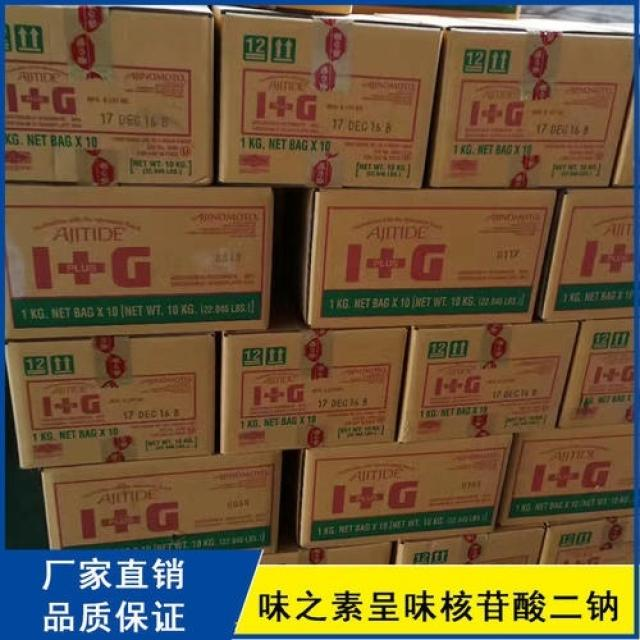box: (375, 13, 634, 189), (212, 5, 444, 188), (5, 184, 275, 340), (5, 5, 214, 187), (303, 188, 558, 329), (5, 332, 215, 470), (297, 434, 513, 549), (220, 326, 410, 453), (41, 451, 282, 549), (397, 321, 580, 442), (495, 422, 634, 525), (535, 188, 634, 323), (558, 319, 634, 428), (396, 525, 544, 564), (539, 515, 635, 564), (260, 541, 392, 564), (611, 92, 634, 188)
